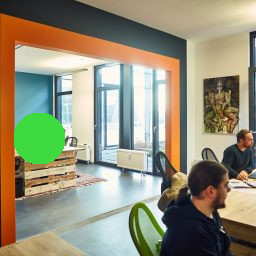focus: (12, 109, 65, 168)
